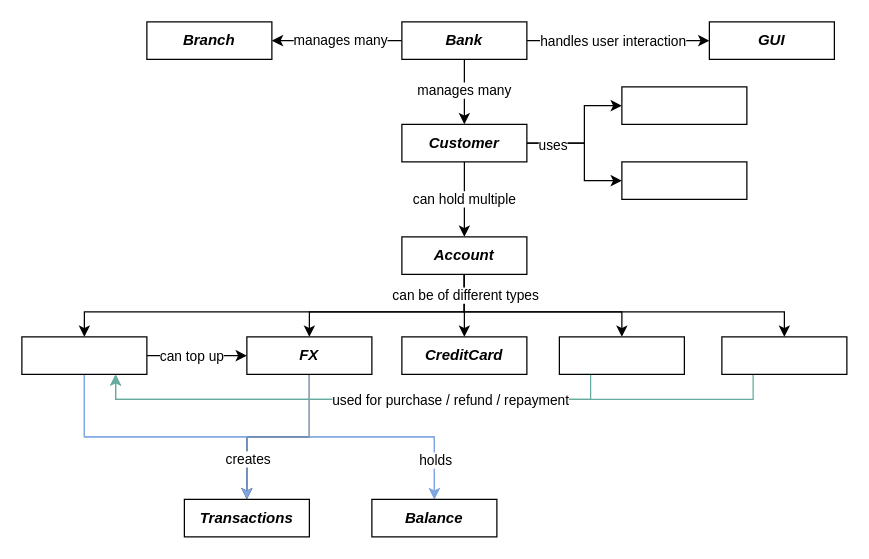
Image size: 869x559. Some labels were removed from this diagram. The shapes that lost their labels are listed below. From the top down, each one's centre as x and y in pixels, then its label:
At [684,105]: "HashingSecurity".
At [684,180]: "Security".
At [84,355]: "Savings".
At [621,355]: "Loan".
At [784,355]: "Insurance".
